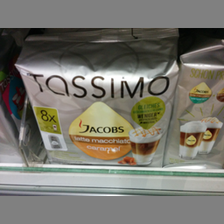coffee: (15, 28, 183, 164), (168, 37, 224, 167)
